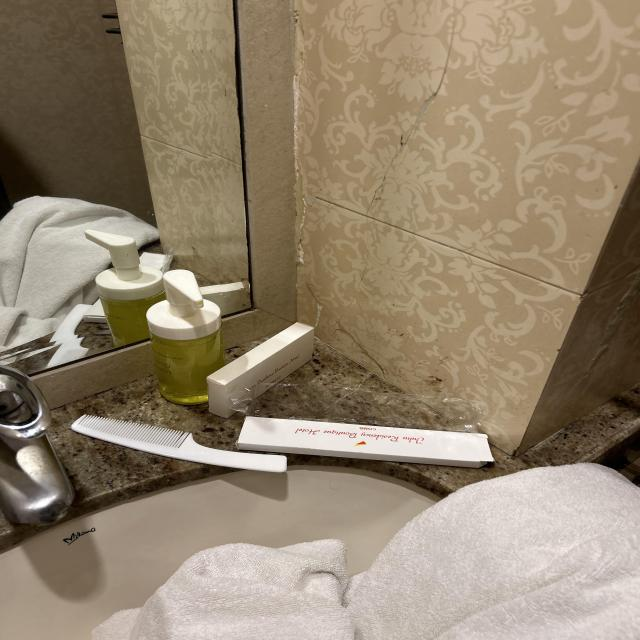mess: (0, 266, 640, 640)
